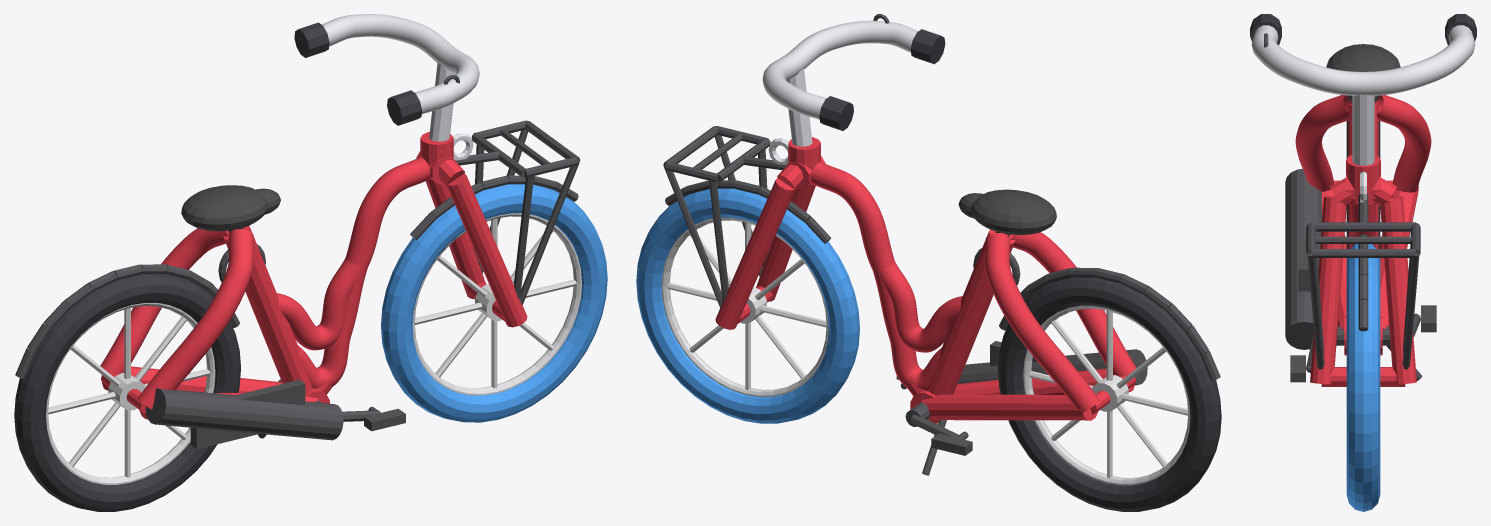
File: swapfiets-runtime.glb
3 renders of one model, left to right at view 1: azimuth 30°, elevation 25°; view 2: azimuth 150°, elevation 25°; view 3: azimuth 270°, elevation 25°, orthographic. The views are drawn at different scales.
Parts seen in each view (by area): view 1: Frame, FrontTire, RearTire, ChainCase, LenkerBars, RearRim, FrontRim, Fork, FrontRack, Seat, RearFender, FrontFender (+1 smaller); view 2: Frame, FrontTire, RearTire, LenkerBars, RearRim, FrontRim, Fork, FrontRack, Seat, RearFender, ChainCase, Crank (+1 smaller); view 3: Frame, LenkerBars, Fork, FrontTire, FrontRack, ChainCase, Seat, Crank, FrontFender, RearTire.
Part boxes in pixels (x1,y1,x2,y2): Frame: [100, 132, 453, 419]; FrontTire: [381, 184, 607, 422]; RearTire: [14, 274, 240, 511]; ChainCase: [145, 379, 343, 449]; LenkerBars: [294, 14, 479, 141]; RearRim: [46, 303, 215, 484]; FrontRim: [412, 213, 581, 395]; Fork: [416, 151, 527, 327]; FrontRack: [455, 120, 580, 304]; Seat: [181, 185, 280, 232]; RearFender: [15, 264, 239, 378]; FrontFender: [410, 175, 578, 240]; Frame: [788, 137, 1136, 423]; FrontTire: [636, 188, 859, 423]; RearTire: [998, 277, 1221, 511]; LenkerBars: [762, 14, 945, 146]; RearRim: [1023, 305, 1190, 485]; FrontRim: [661, 217, 828, 396]; Fork: [715, 156, 825, 329]; FrontRack: [663, 126, 786, 307]; Seat: [958, 189, 1056, 236]; RearFender: [999, 267, 1220, 380]; ChainCase: [958, 341, 1147, 385]; Crank: [896, 376, 972, 455]; Frame: [1295, 95, 1431, 355]; LenkerBars: [1250, 14, 1476, 165]; Fork: [1310, 174, 1416, 386]; FrontTire: [1346, 244, 1380, 511]; FrontRack: [1306, 194, 1420, 369]; ChainCase: [1285, 168, 1322, 349]; Seat: [1326, 44, 1400, 101]; Crank: [1290, 305, 1436, 382]; FrontFender: [1358, 234, 1368, 331]; RearTire: [1346, 120, 1380, 258].
Bounding box in the file's own units: 2.06 × 1.33 × 0.652.
